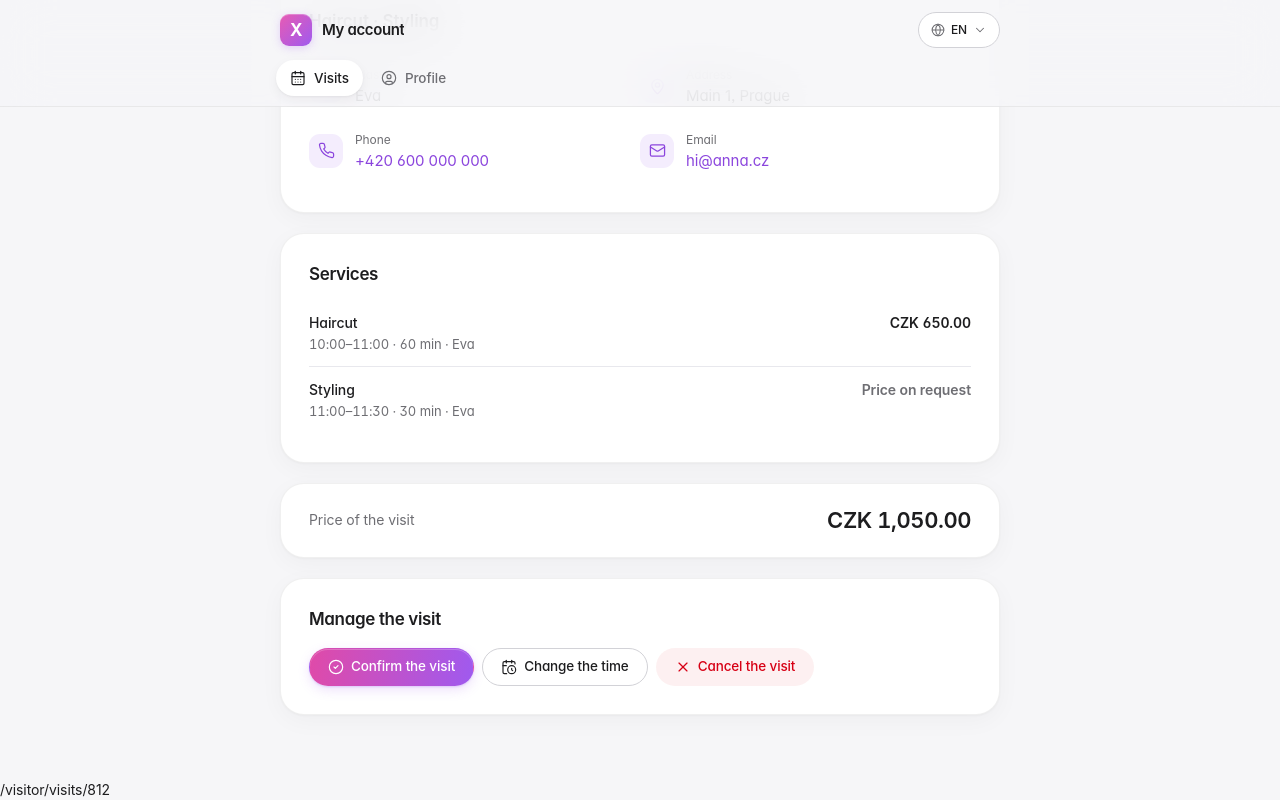
Test: sends the new time in the salon zone and says when it is taken
(page scrolled)
Click the button "Change the time" at (565, 667), box [482, 648, 648, 686]
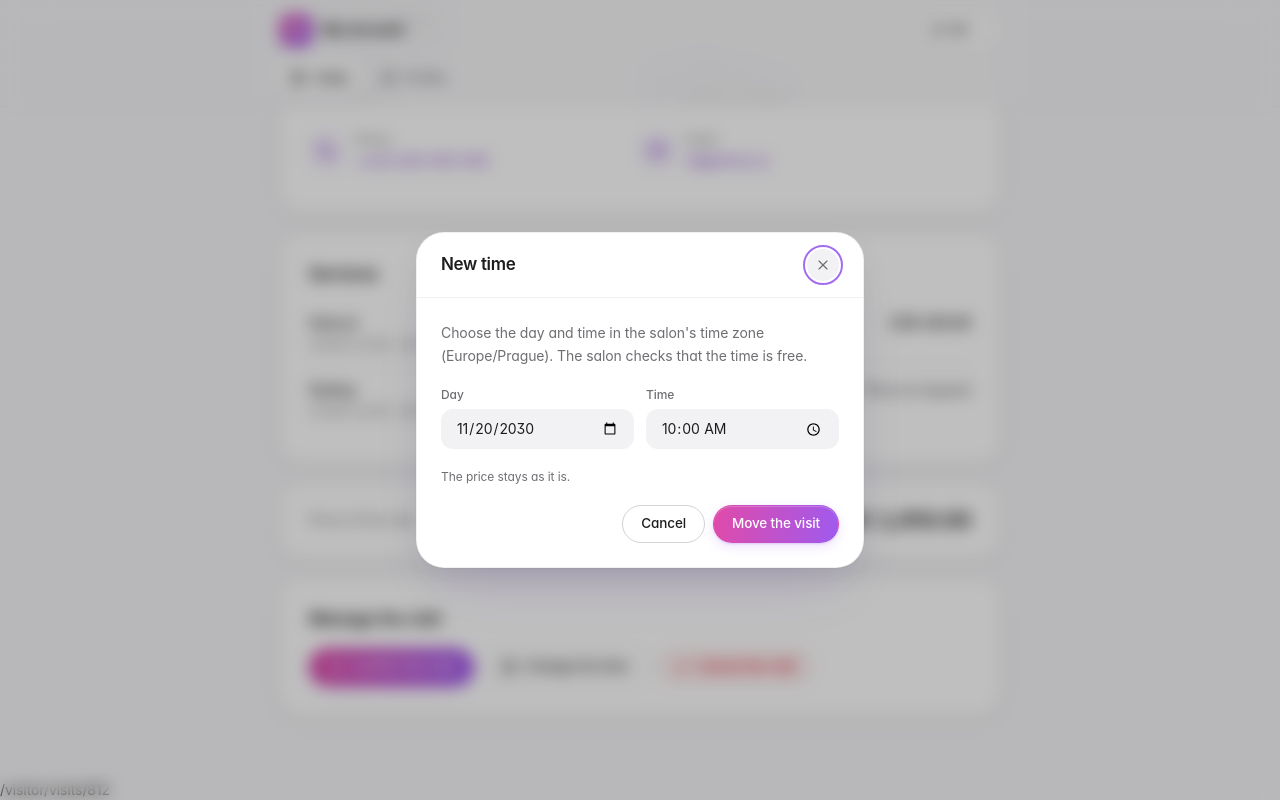
Replace the text in the time field labelled "Time" with "14:30" at (742, 429), box [646, 409, 839, 449]
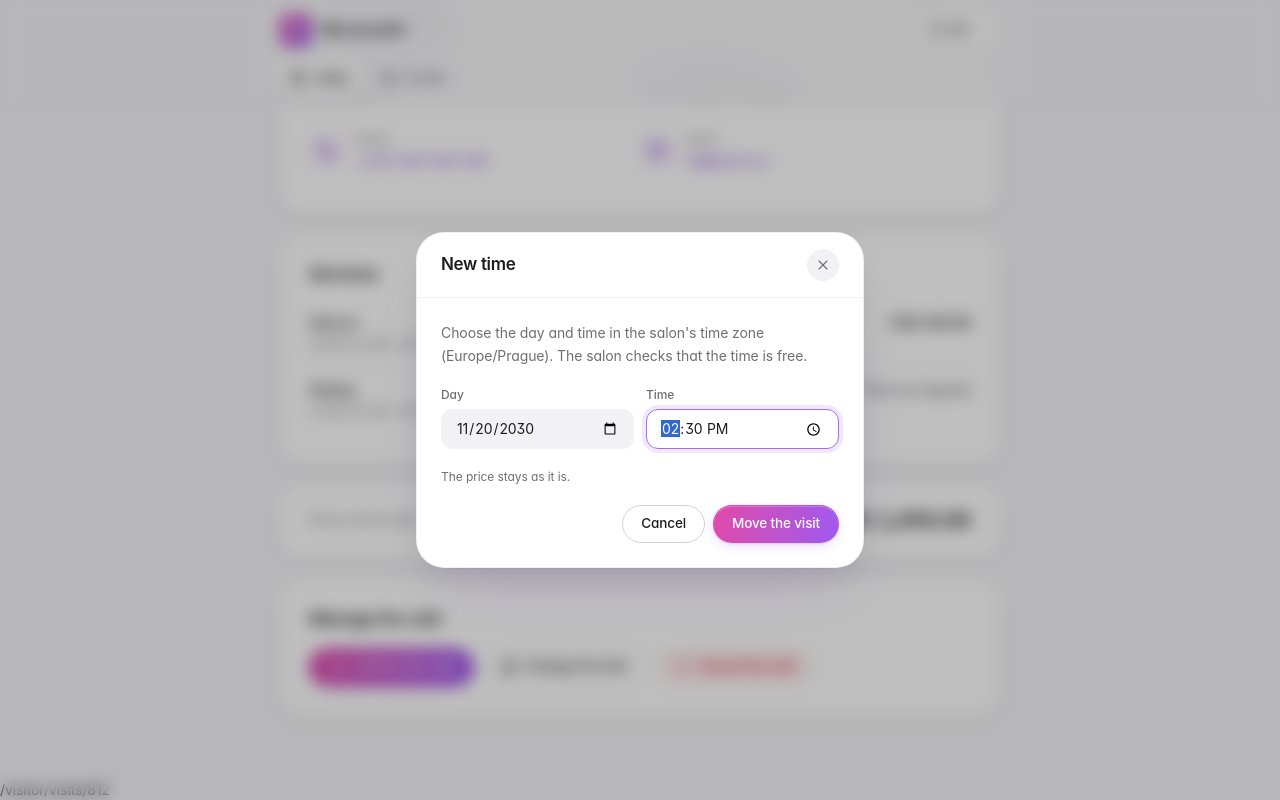
Click the button "Move the visit" at (776, 524), box [713, 505, 839, 543]
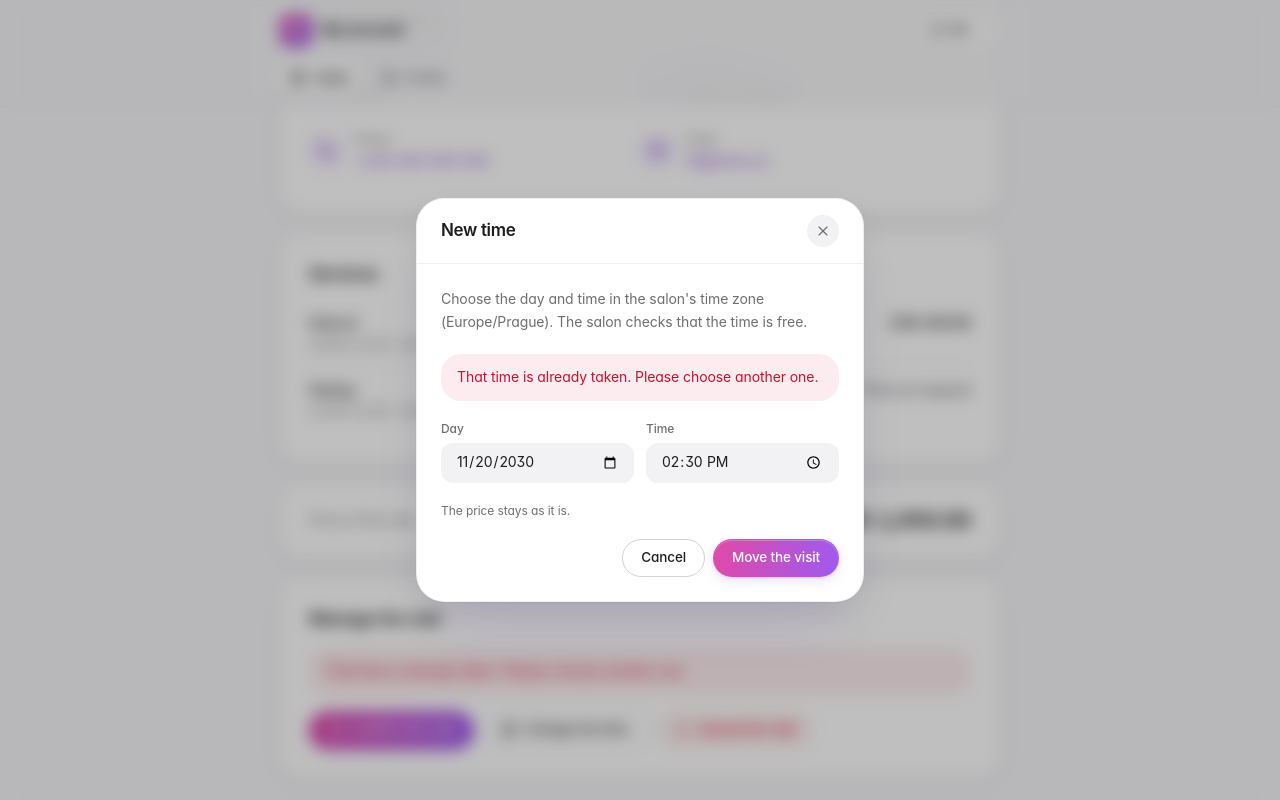
expect the message "That time is already taken. Please choose another one." below "New time" is shown: met, box [457, 368, 818, 385]
